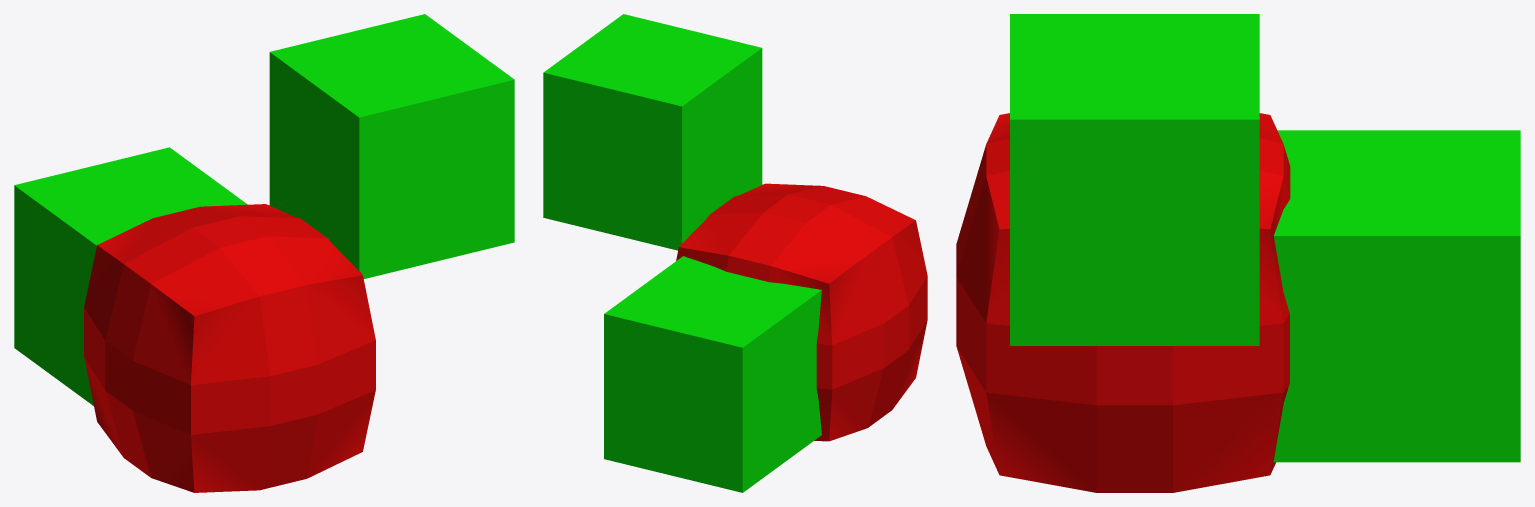
Rendered from close_to_identity_transforms.fbx.
3 renders of one model, left to right at view 1: azimuth 30°, elevation 25°; view 2: azimuth 150°, elevation 25°; view 3: azimuth 270°, elevation 25°, orthographic. The views are drawn at different scales.
Parts seen in each view (by area): view 1: Cube1 (×2), Cube2; view 2: Cube1 (×2), Cube2; view 3: Cube1 (×2), Cube2.
Boxes of the visible parts, <box> form: Cube1 (×2): <box>84,14,514,492</box>; Cube2: <box>14,147,247,405</box>; Cube1 (×2): <box>543,14,927,441</box>; Cube2: <box>604,256,821,492</box>; Cube1 (×2): <box>956,14,1290,492</box>; Cube2: <box>1273,130,1520,462</box>.
Size of the model in its own units: 0.2258 by 0.2211 by 0.2258.
